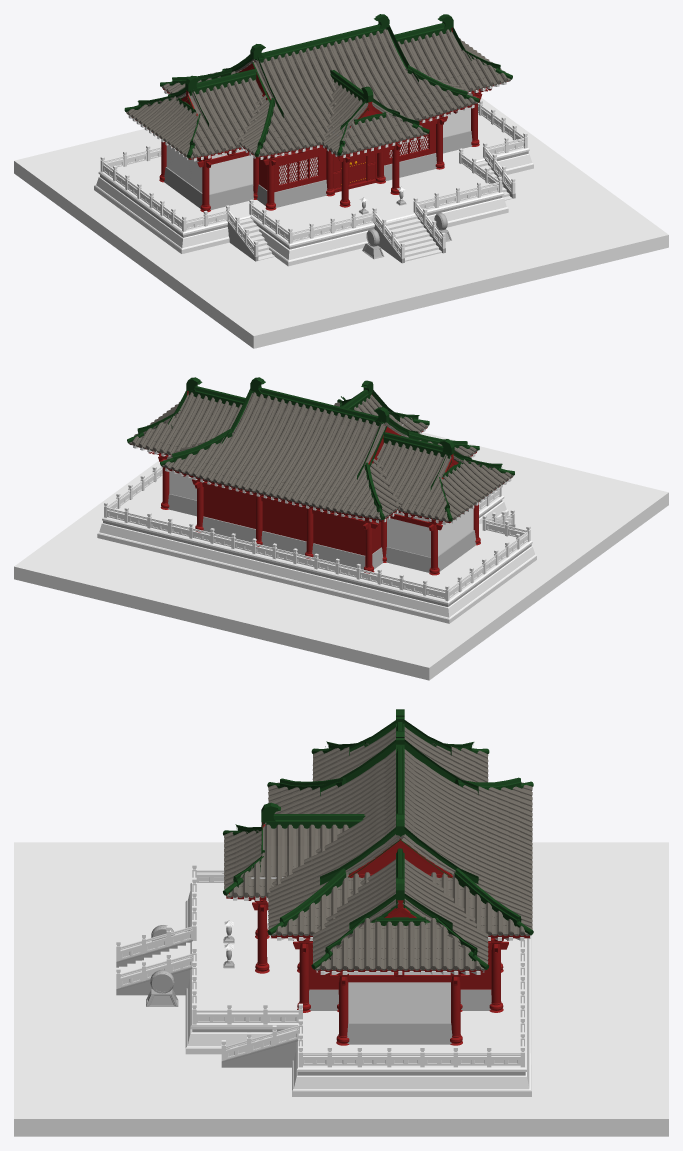
File: taihe-palace.glb
3 views of the same model, one above another, from view 1: azimuth 30°, elevation 25°; view 2: azimuth 150°, elevation 25°; view 3: azimuth 270°, elevation 25° (orthographic). The views are drawn at different scales.
Parts seen in each view (by area): view 1: Object_3, Object_4, Object_25, Object_15, Object_14, Object_24, Object_36, Object_28, Object_23, Object_37, Object_8, Object_7 (+9 smaller); view 2: Object_3, Object_4, Object_25, Object_15, Object_26, Object_14, Object_36, Object_27, Object_24, Object_23, Object_9, Object_37 (+5 smaller); view 3: Object_3, Object_4, Object_25, Object_15, Object_14, Object_20, Object_23, Object_27, Object_26, Object_37, Object_7, Object_22 (+10 smaller).
Part boxes in pixels (<box>): Object_3: <box>14,98,668,348</box>; Object_4: <box>94,113,533,266</box>; Object_25: <box>166,29,478,157</box>; Object_15: <box>124,14,512,158</box>; Object_14: <box>100,131,528,263</box>; Object_24: <box>144,77,263,158</box>; Object_36: <box>259,124,435,192</box>; Object_28: <box>200,103,479,212</box>; Object_23: <box>397,29,511,91</box>; Object_37: <box>166,108,470,194</box>; Object_8: <box>100,100,527,258</box>; Object_7: <box>105,81,524,254</box>; Object_3: <box>14,396,668,680</box>; Object_4: <box>97,475,536,623</box>; Object_25: <box>161,392,406,520</box>; Object_15: <box>127,377,514,521</box>; Object_26: <box>220,395,322,497</box>; Object_14: <box>103,494,531,606</box>; Object_36: <box>203,481,381,555</box>; Object_27: <box>131,391,511,575</box>; Object_24: <box>376,440,494,522</box>; Object_23: <box>128,392,242,455</box>; Object_9: <box>107,472,499,598</box>; Object_37: <box>169,471,473,557</box>; Object_3: <box>14,842,668,1136</box>; Object_4: <box>185,883,531,1096</box>; Object_25: <box>268,749,532,935</box>; Object_15: <box>223,709,533,969</box>; Object_14: <box>116,920,525,1075</box>; Object_20: <box>315,918,485,970</box>; Object_23: <box>312,859,488,969</box>; Object_27: <box>226,822,529,1045</box>; Object_26: <box>404,791,532,897</box>; Object_37: <box>309,939,450,1022</box>; Object_7: <box>120,926,523,1067</box>; Object_22: <box>271,871,529,936</box>.
Bounding box in the file's own units: 37.35 × 14.17 × 37.35.
